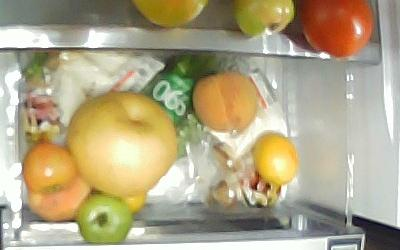peach: (192, 71, 259, 133), (29, 174, 90, 221)
pear: (67, 89, 178, 196)
tangerine: (254, 133, 300, 185)
tomato: (23, 142, 75, 194), (77, 195, 132, 244)
